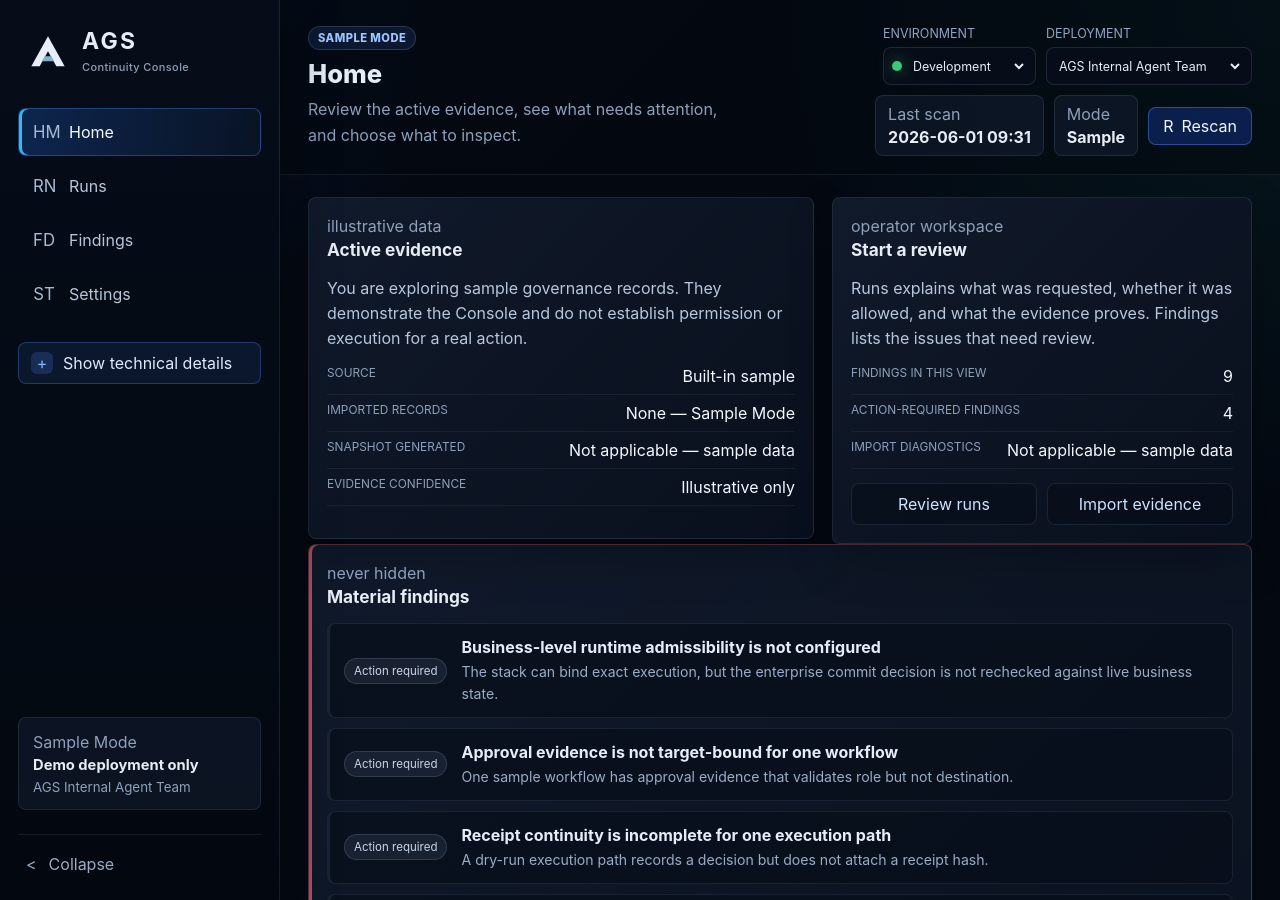
Test: Continuity Console operator shell › renders Flows workflow cards and the ten-stage governed sequence
Click the button "+ Show technical details" at (140, 363), box [18,342,261,384]
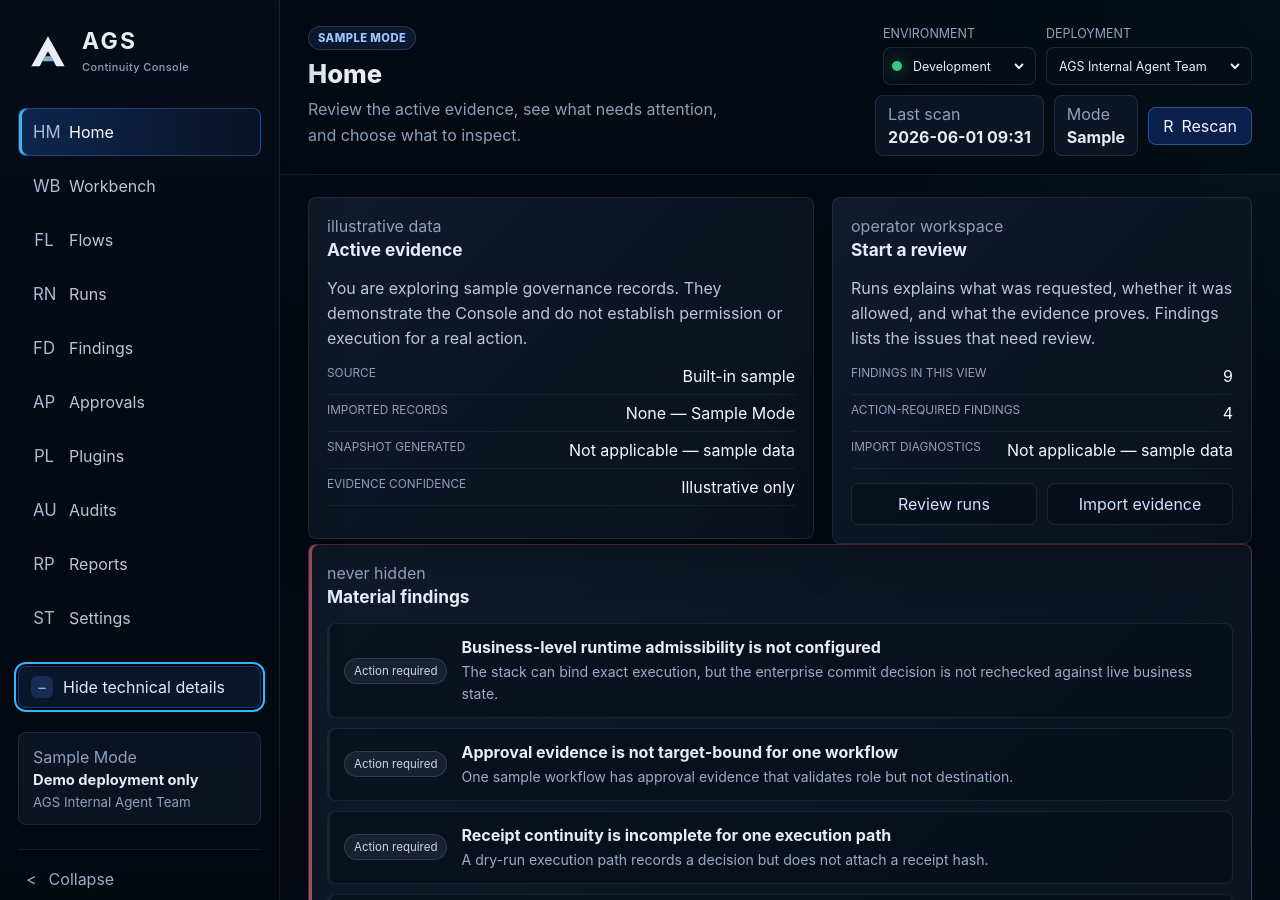
Click the button "Flows" at (140, 240), box [18,216,261,264]
(page scrolled)
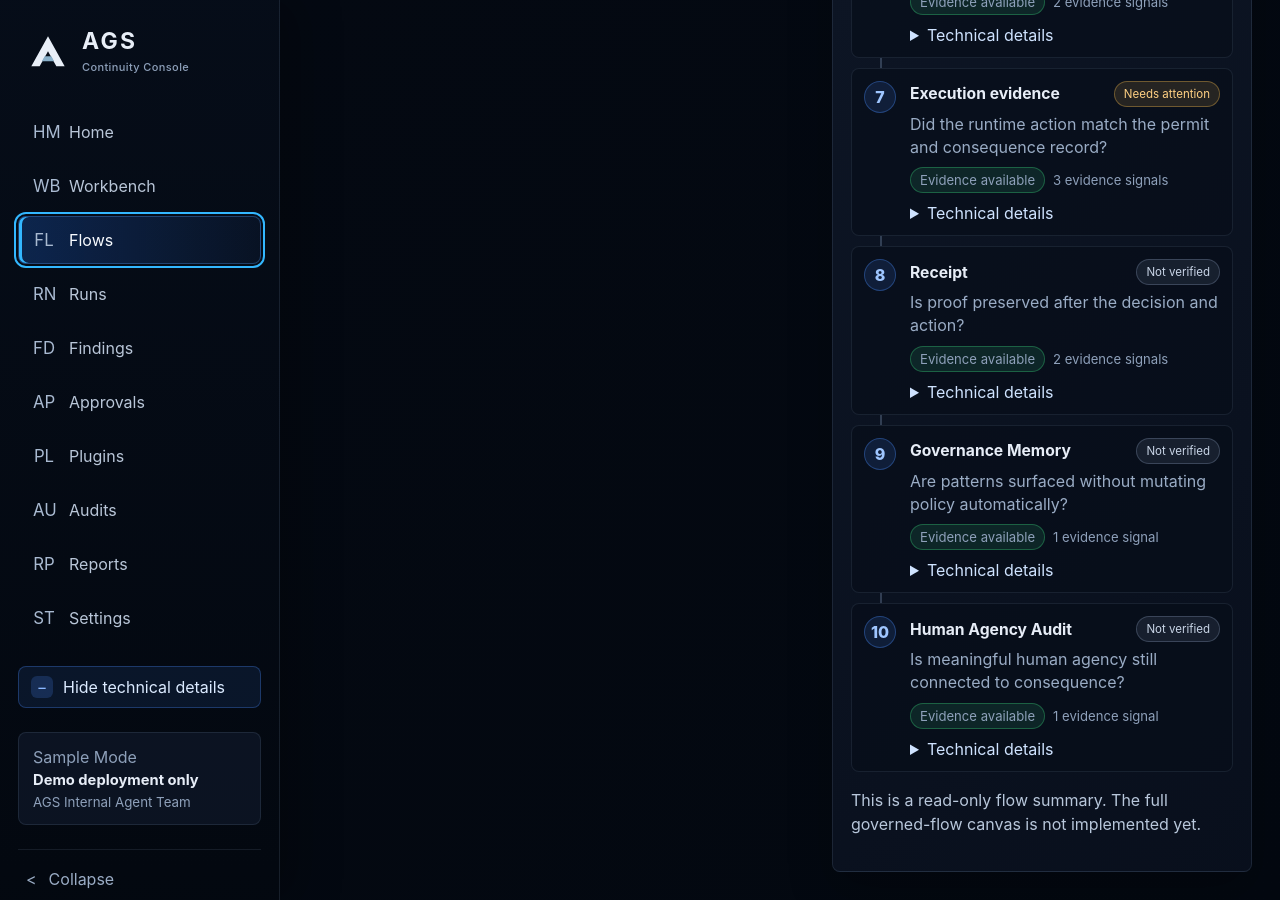
Expected: the text "Human Agency Audit" is shown, [910,620,1072,639]
Expected: the number of elements with class "governed-sequence-stage" is 10
